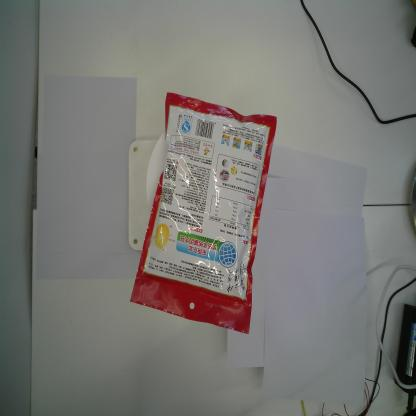Instant Drink: (129, 90, 278, 336)
